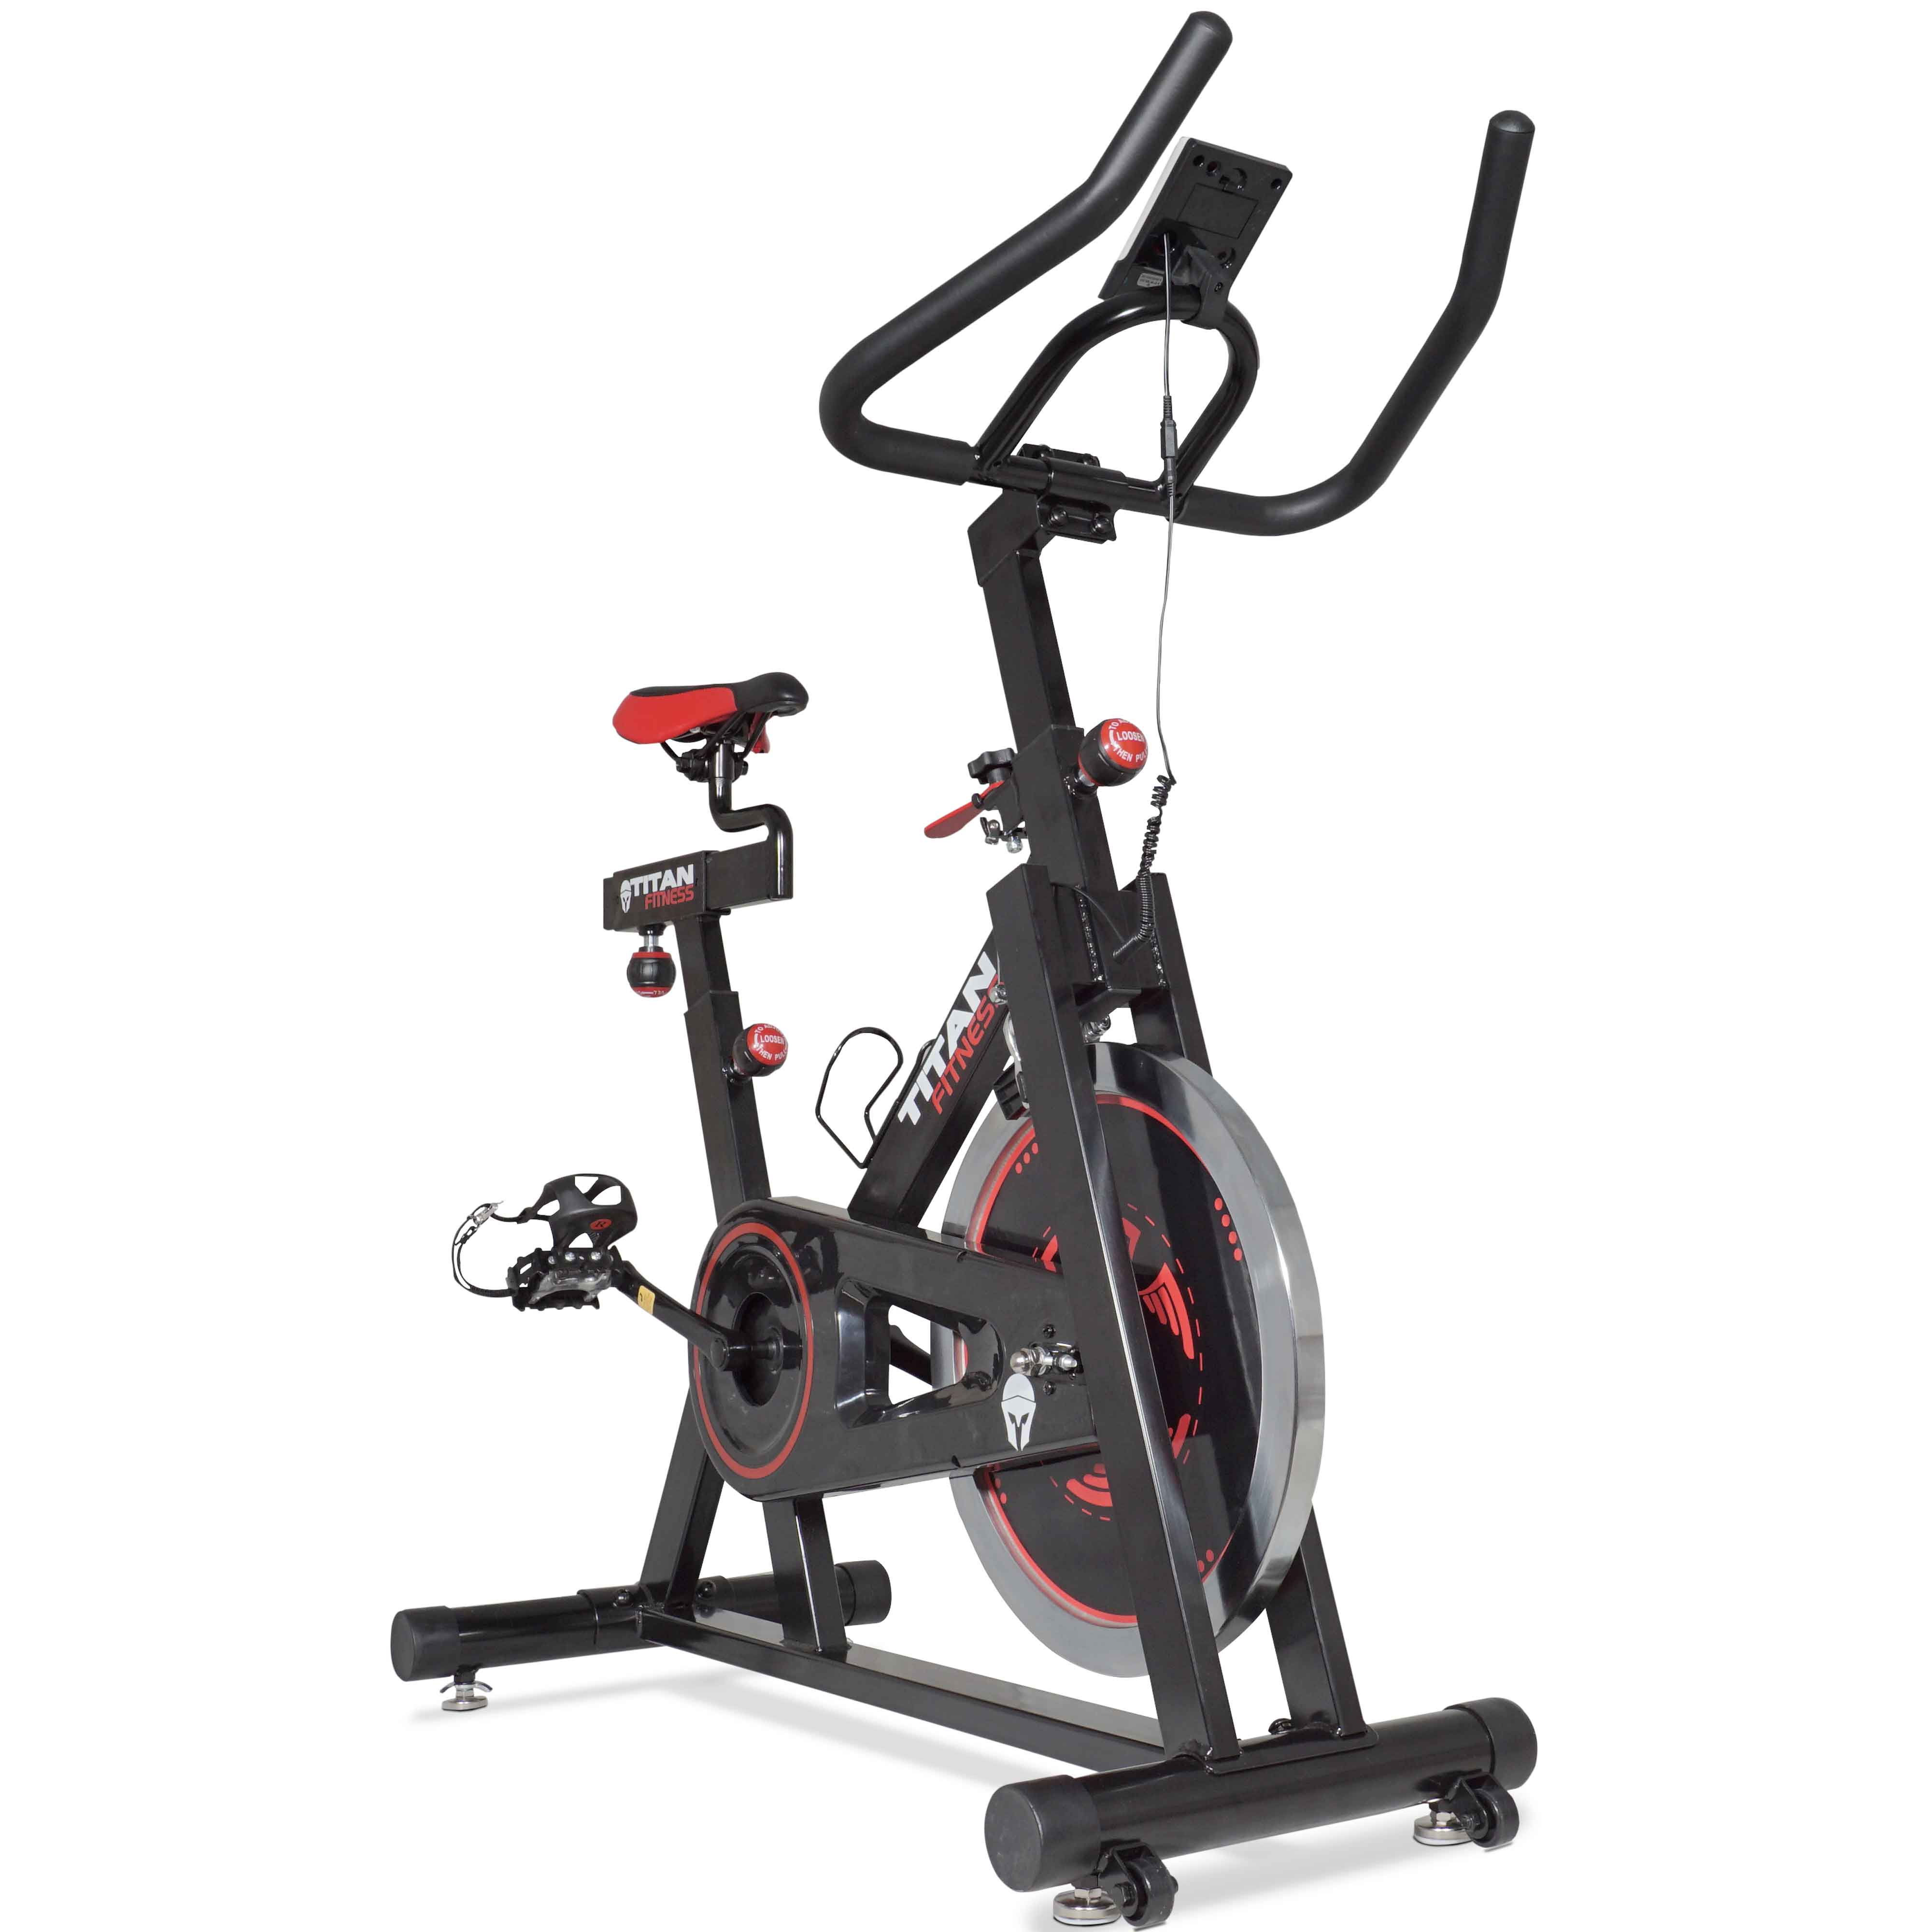gym_bike: (377, 32, 1562, 1898)
